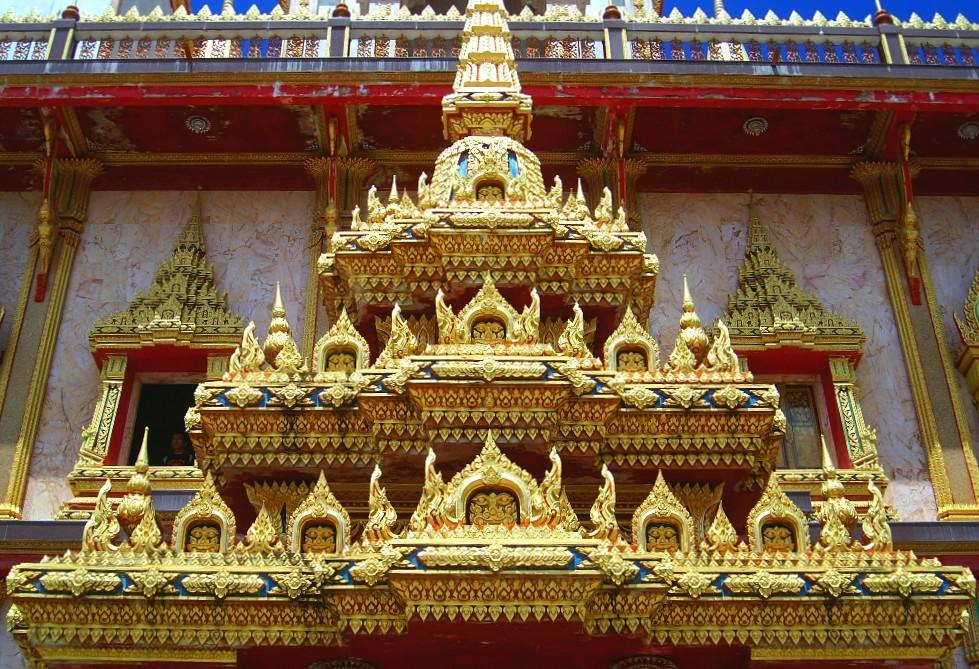temple: (3, 2, 977, 668)
